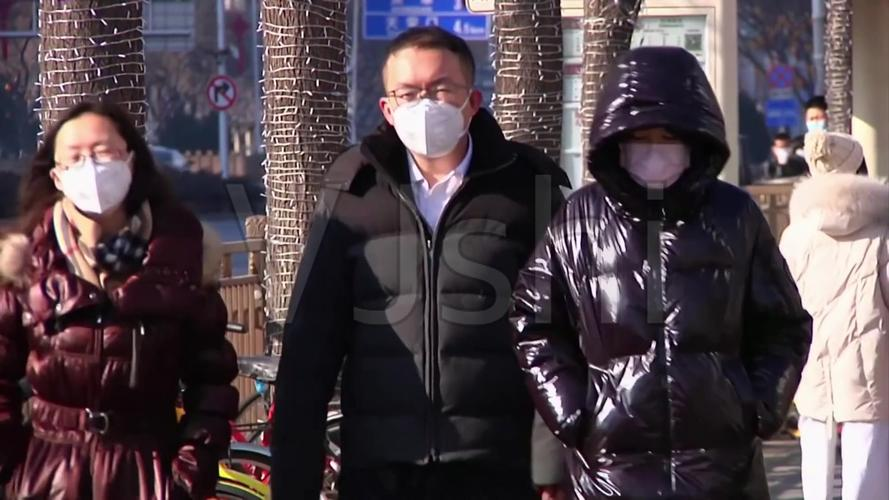mask: (383, 39, 483, 155), (54, 111, 135, 212)
